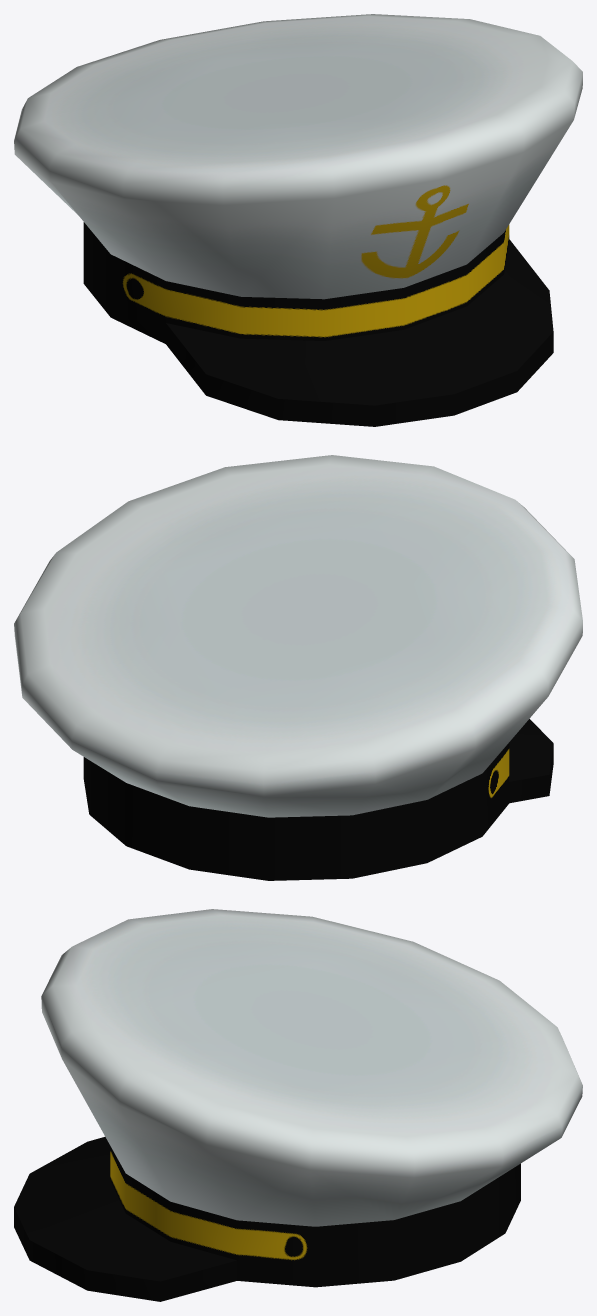
Rendered from m_CaptainsHat01.obj.
3 renders of one model, top to bottom at view 1: azimuth 30°, elevation 25°; view 2: azimuth 150°, elevation 25°; view 3: azimuth 270°, elevation 25°, orthographic. The views are drawn at different scales.
Visible parts, largest first — view 1: m_CaptainsHat01_mi_CaptainHat; view 2: m_CaptainsHat01_mi_CaptainHat; view 3: m_CaptainsHat01_mi_CaptainHat.
Boxes of the visible parts, x1,y1,x2,y2 form: m_CaptainsHat01_mi_CaptainHat: (14, 14, 582, 426); m_CaptainsHat01_mi_CaptainHat: (14, 455, 582, 880); m_CaptainsHat01_mi_CaptainHat: (14, 909, 582, 1301).
Bounding box in the file's own units: 0.6221 × 0.3012 × 0.6425.
1 material, 1 textured.
